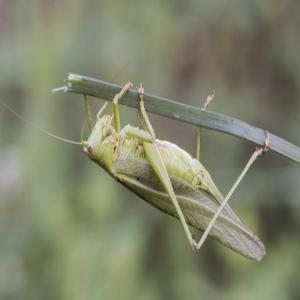locust: (74, 73, 264, 264)
